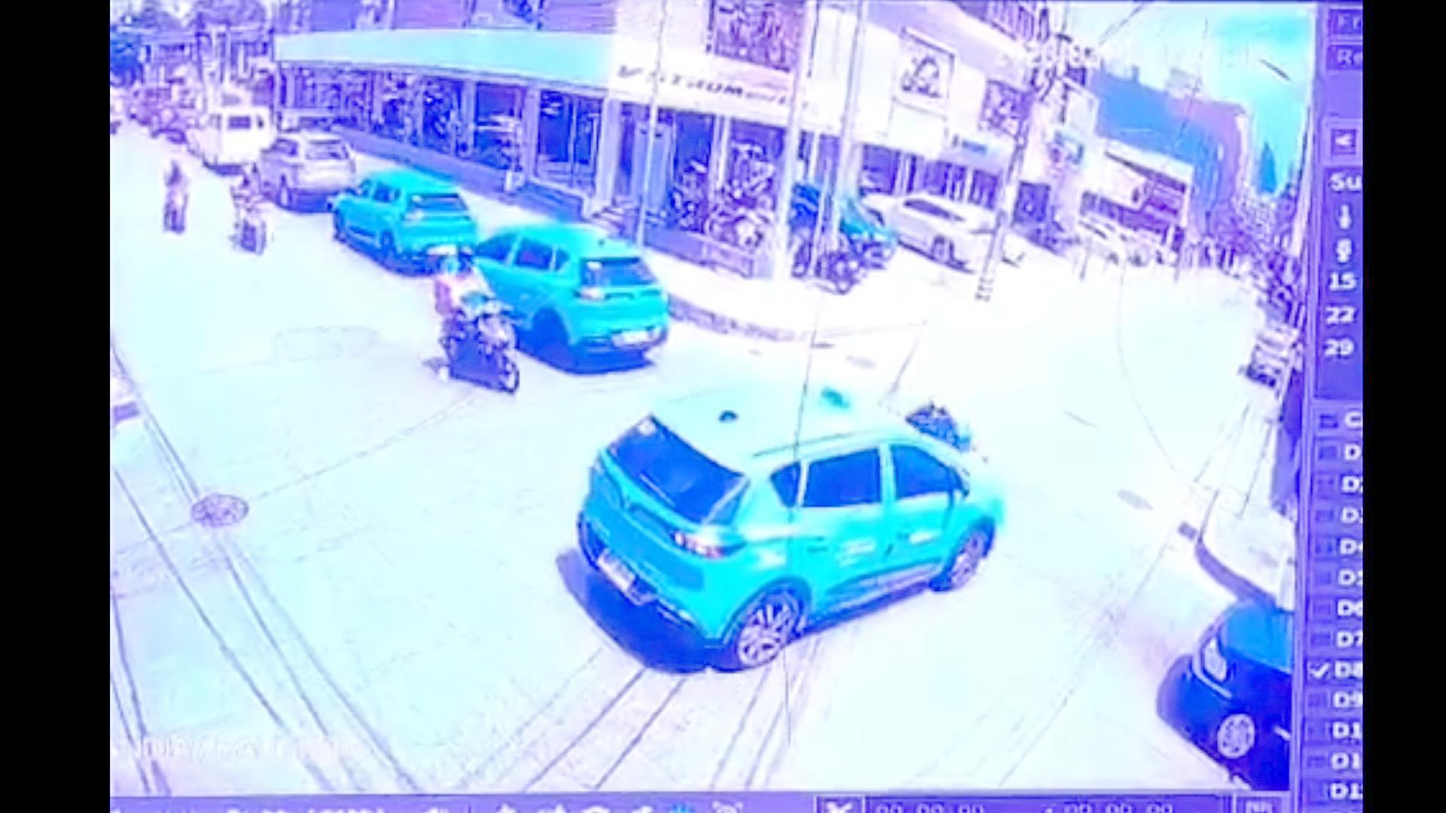Car: (581, 377, 1007, 670), (472, 225, 672, 368), (1159, 589, 1294, 789), (331, 170, 477, 274), (872, 188, 1006, 263), (785, 179, 897, 265), (255, 130, 358, 208), (188, 105, 275, 172), (1242, 320, 1301, 386), (1050, 216, 1131, 264), (129, 84, 186, 136), (1119, 227, 1173, 267), (1239, 266, 1270, 305)
Minor Accident: (581, 379, 1007, 672)
Motor: (847, 377, 1006, 480), (432, 245, 509, 384), (786, 223, 865, 293), (230, 166, 270, 249), (162, 158, 190, 232)
